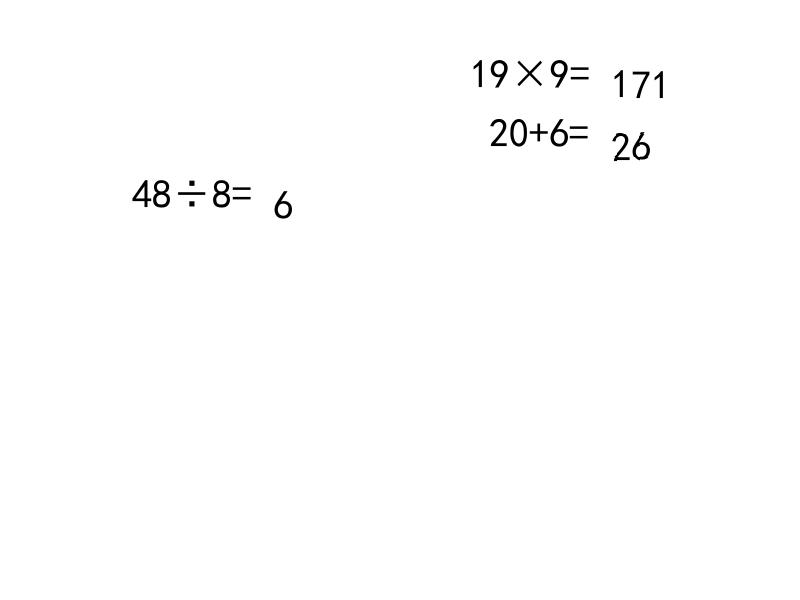+: (529, 112, 549, 142)
0: (509, 112, 529, 142)
1: (470, 53, 490, 81), (600, 53, 620, 81), (640, 53, 660, 81)
2: (489, 112, 509, 142), (599, 112, 619, 142)
4: (132, 173, 152, 201)
6: (549, 112, 569, 142), (619, 112, 639, 142), (262, 173, 282, 201)
7: (620, 53, 640, 81)
8: (152, 173, 172, 201), (212, 173, 232, 201)
9: (490, 53, 510, 81), (550, 53, 570, 81)
=: (569, 112, 589, 142), (570, 53, 590, 81), (232, 173, 252, 201)
×: (510, 53, 550, 81)
÷: (172, 173, 212, 201)
